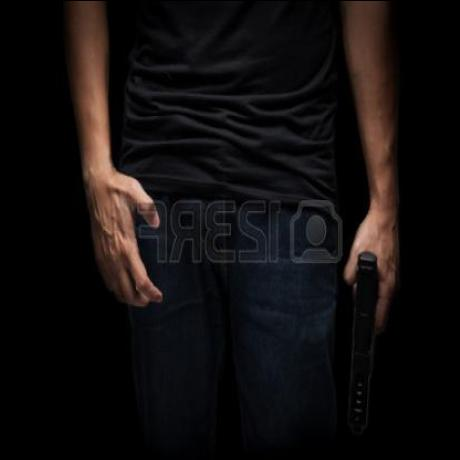1: (73, 4, 405, 336)
weapon: (336, 247, 388, 438)
